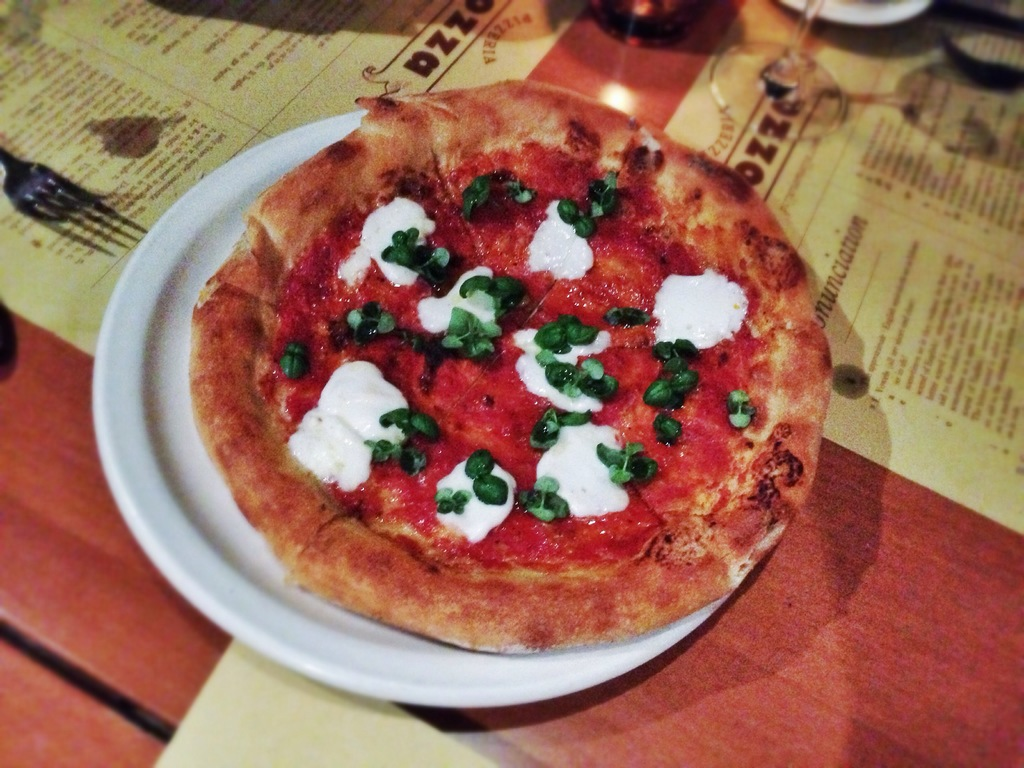pizza: (187, 76, 833, 651)
